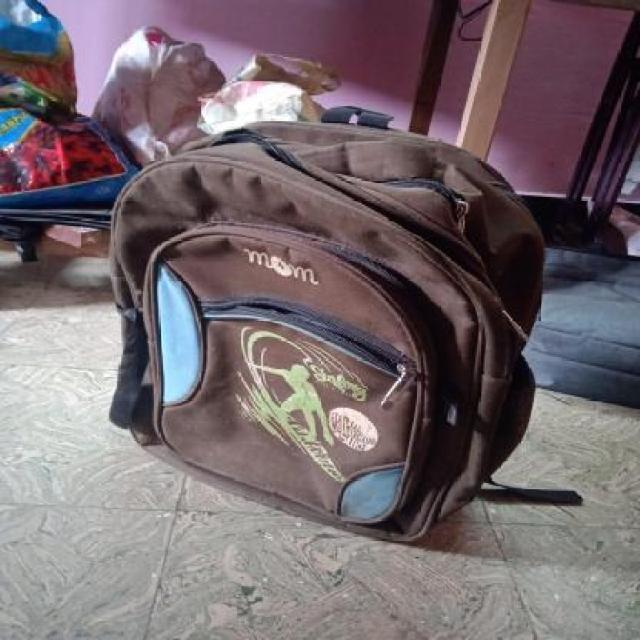backpack: (104, 102, 554, 550)
